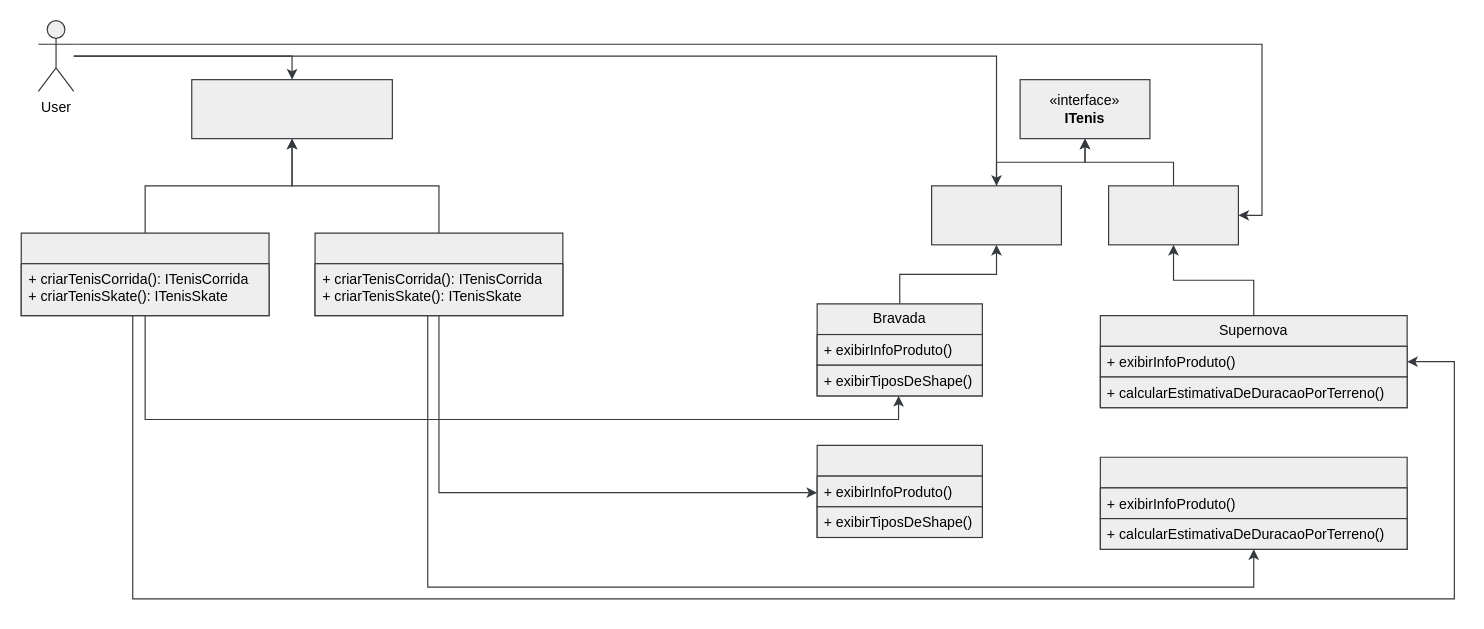
This 1484x629 diagram has some shape labels left out. Each missing label, with the box of its shape:
AdidasFabric: (20, 232, 269, 316)
QixAllanMesquita: (816, 444, 982, 537)
QixContent: (1099, 456, 1407, 549)
QixFabric: (314, 232, 563, 316)
«interface» IAbstractFactory: (191, 78, 392, 139)
«interface» ITenisCorrida: (1107, 185, 1238, 245)
«interface» ITenisSkate: (930, 185, 1061, 245)
